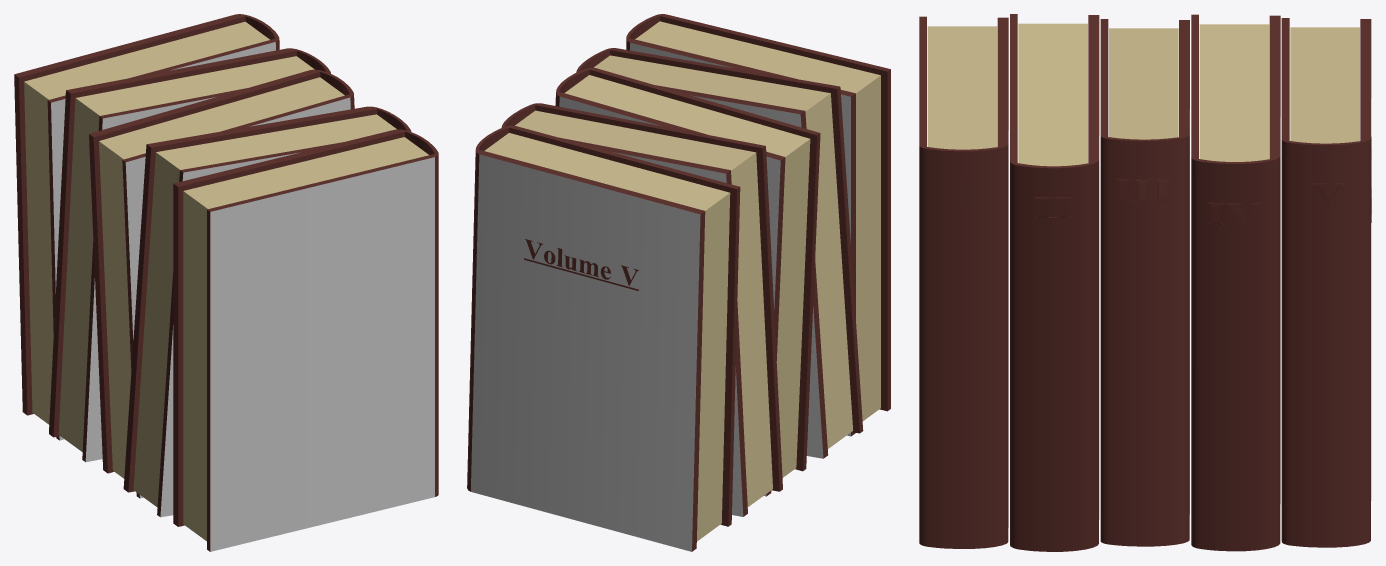
Rendered from corpus.fbx.
3 renders of one model, left to right at view 1: azimuth 30°, elevation 25°; view 2: azimuth 150°, elevation 25°; view 3: azimuth 270°, elevation 25°, orthographic. The views are drawn at different scales.
Visible parts, largest first — view 1: book 1, book 2, book 4, book 5, book 3; view 2: book 5, book 4, book 2, book 1, book 3; view 3: book 2, book 4, book 5, book 1, book 3.
Boxes of the visible parts, left/top/right/bottom form: book 1: left=173, top=129, right=438, bottom=551; book 2: left=123, top=106, right=411, bottom=517; book 4: left=49, top=48, right=330, bottom=462; book 5: left=14, top=14, right=279, bottom=440; book 3: left=89, top=69, right=354, bottom=498; book 5: left=467, top=125, right=740, bottom=551; book 4: left=501, top=103, right=782, bottom=516; book 2: left=576, top=48, right=863, bottom=458; book 1: left=626, top=14, right=890, bottom=436; book 3: left=555, top=67, right=820, bottom=496; book 2: left=1010, top=14, right=1099, bottom=551; book 4: left=1191, top=14, right=1280, bottom=551; book 5: left=1281, top=18, right=1371, bottom=547; book 1: left=919, top=16, right=1008, bottom=548; book 3: left=1100, top=19, right=1189, bottom=546.
Bounding box in the file's own units: 0.7753 × 1.02 × 1.01.
